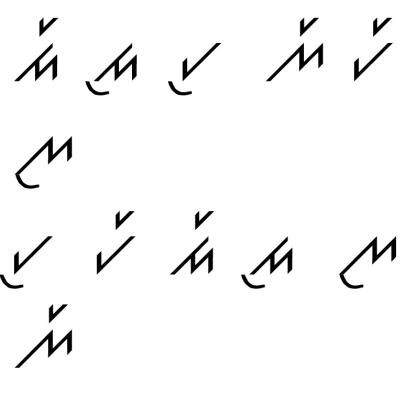dar: (160, 204, 221, 280), (12, 16, 65, 88)
daw: (238, 226, 300, 294), (83, 36, 140, 100)
nar: (256, 13, 328, 85), (12, 300, 78, 370)
naw: (328, 226, 403, 300), (11, 122, 84, 196)
par: (86, 206, 142, 283), (350, 13, 398, 85)
paw: (169, 34, 226, 99), (1, 229, 58, 290)
